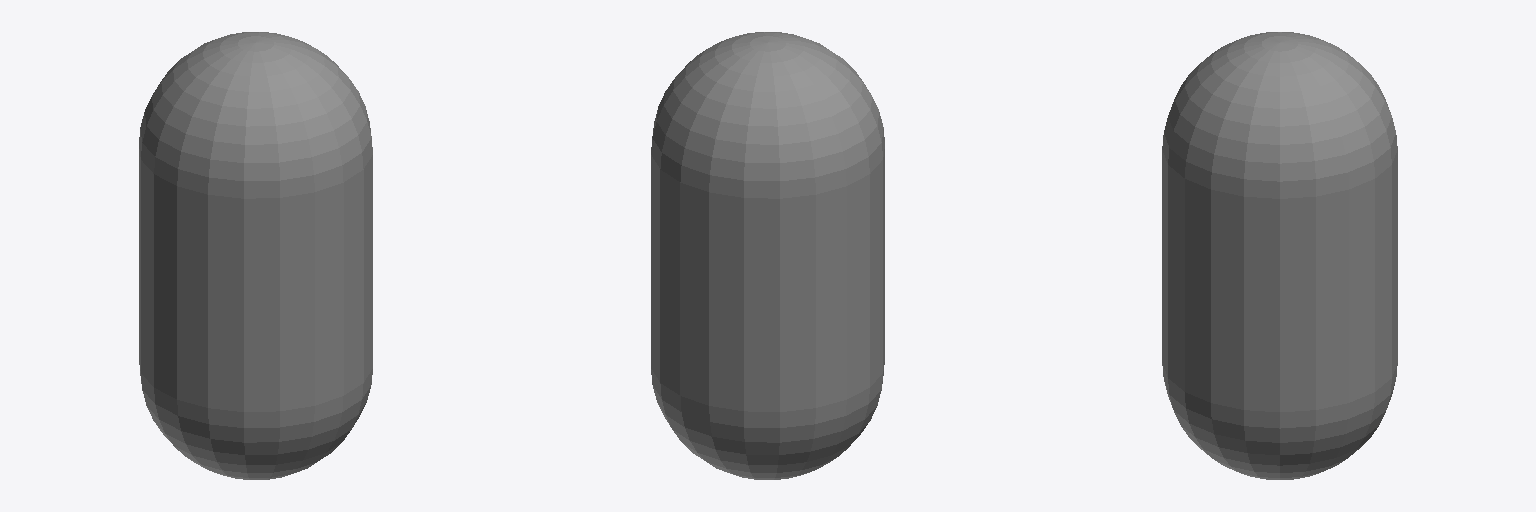
The model's file is CapsulePro.obj.
3 views of the same model, side by side, from view 1: azimuth 30°, elevation 25°; view 2: azimuth 150°, elevation 25°; view 3: azimuth 270°, elevation 25° (orthographic).
Visible parts, largest first — view 1: CapsulePro; view 2: CapsulePro; view 3: CapsulePro.
Boxes of the visible parts, box(x1,y1,x2,y2) form: CapsulePro: box(139, 32, 372, 479); CapsulePro: box(651, 32, 884, 479); CapsulePro: box(1162, 32, 1397, 479).
Bounding box in the file's own units: 2 × 4 × 2.